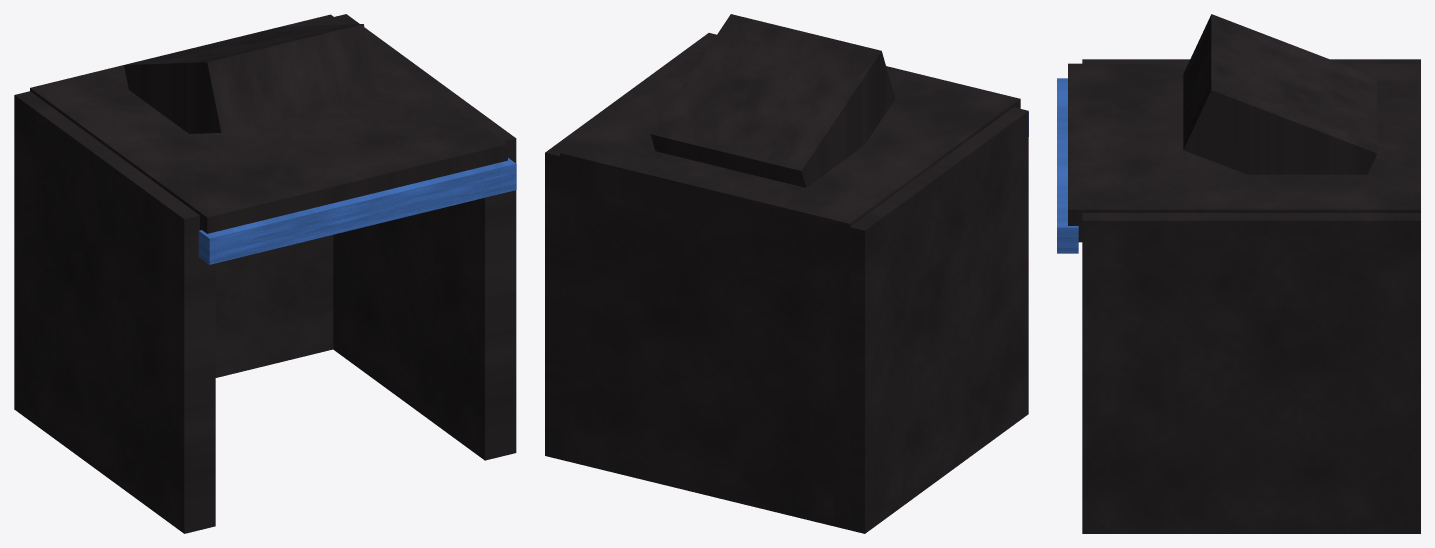
File: rival_gloam_hood.obj
3 renders of one model, left to right at view 1: azimuth 30°, elevation 25°; view 2: azimuth 150°, elevation 25°; view 3: azimuth 270°, elevation 25°, orthographic. The views are drawn at different scales.
Visible parts, largest first — view 1: rival_gloam_hood; view 2: rival_gloam_hood; view 3: rival_gloam_hood.
Part boxes in pixels (x1=…): rival_gloam_hood: x1=14, y1=14, x2=516, y2=533; rival_gloam_hood: x1=545, y1=14, x2=1028, y2=533; rival_gloam_hood: x1=1057, y1=14, x2=1420, y2=533.
Size of the model in its own units: 0.6624 by 0.7684 by 0.6313.
